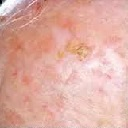Actinic: (61, 34, 92, 62)
